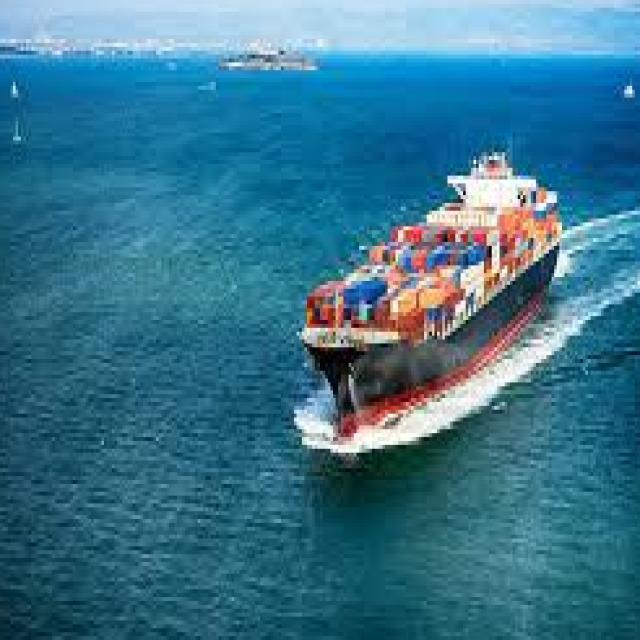cargoship: (306, 140, 558, 436)
